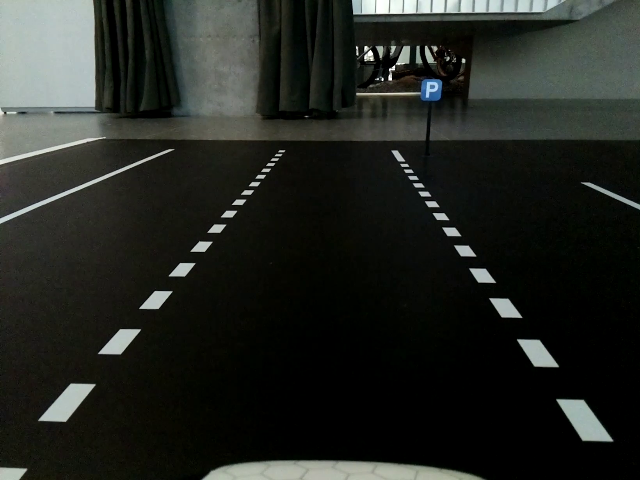park: (422, 80, 441, 102)
